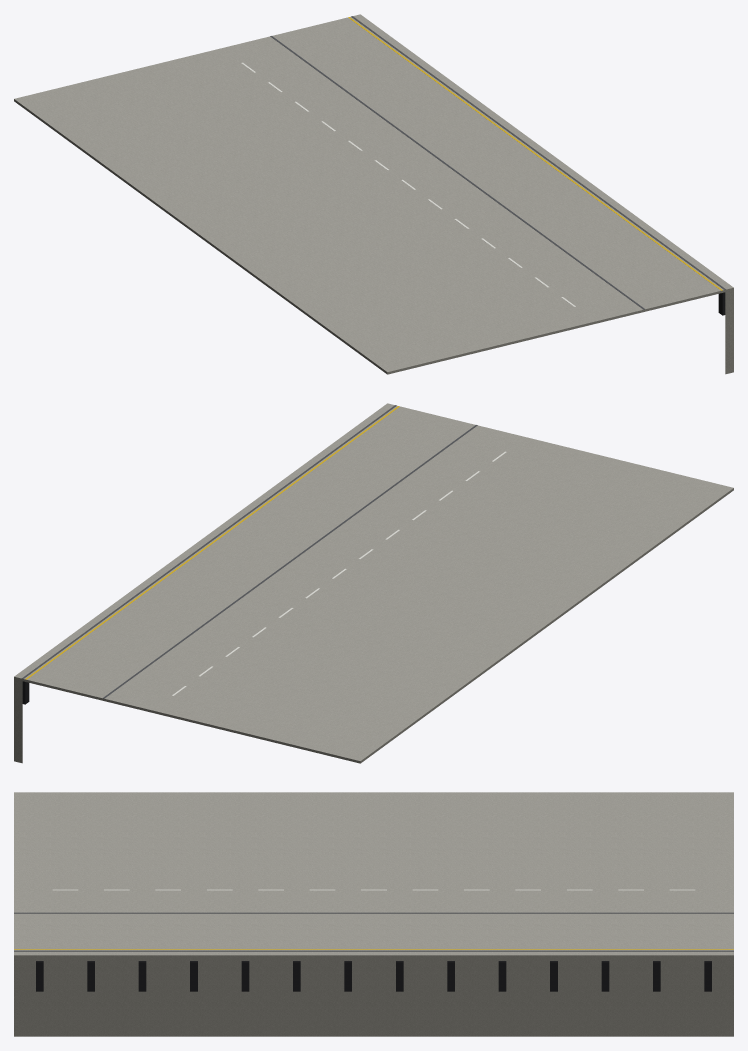
File: quay_apron.glb
3 views of the same model, one above another, from view 1: azimuth 30°, elevation 25°; view 2: azimuth 150°, elevation 25°; view 3: azimuth 270°, elevation 25° (orthographic). The views are drawn at different scales.
Parts seen in each view (by area): view 1: quay_apron; view 2: quay_apron; view 3: quay_apron.
Part boxes in pixels (left/top/right/bottom): quay_apron: left=14, top=14, right=733, bottom=374; quay_apron: left=14, top=403, right=733, bottom=763; quay_apron: left=14, top=792, right=733, bottom=1036.
Bounding box in the file's own units: 60.5 × 14.03 × 112.
Materials: 6 (6 with a texture image).
